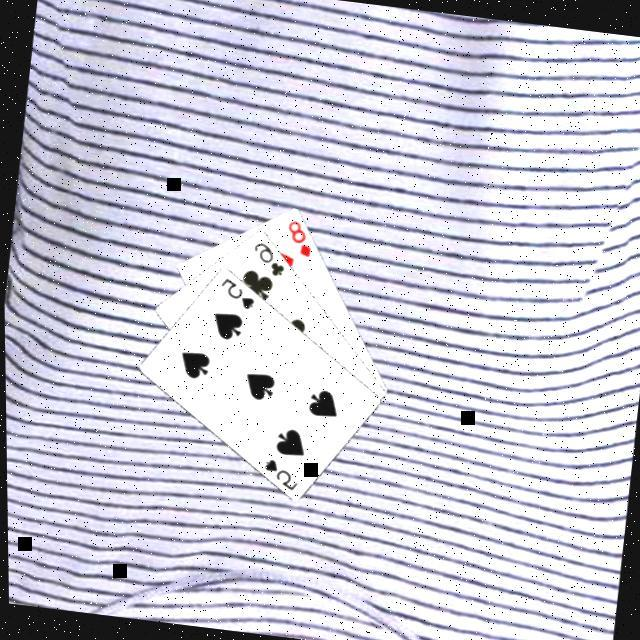5S: (212, 275, 257, 314), (254, 456, 299, 495)
6C: (246, 239, 288, 281)
8D: (279, 218, 317, 263)
